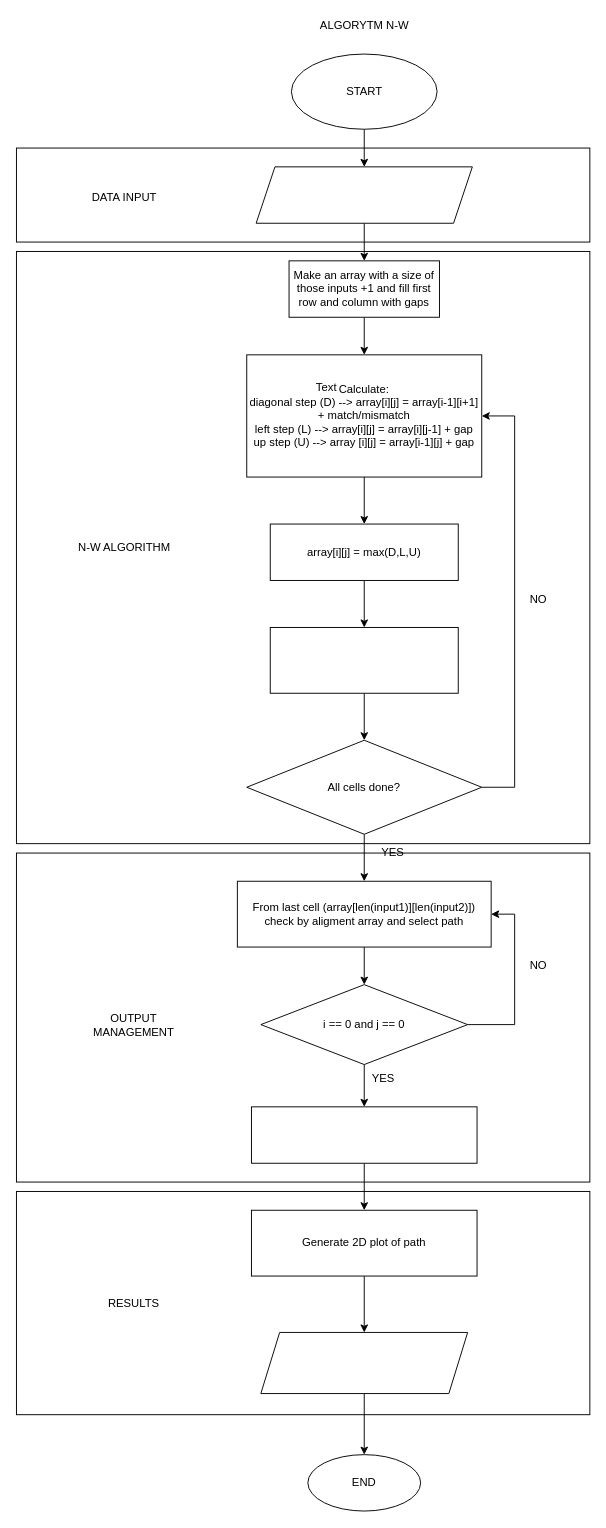
Image size: 606x1528. Some labels were removed from this diagram. Here are the shapes that lost their labels. From the top down, the centre of each, then its label:
At [363,194]: "Provide parameters and input data".
At [363,660]: "Put what kind of step was made in aligment copy array".
At [364,1134]: "Put spaces in places when step was up or down".
At [364,1363]: "Saving data to files".
